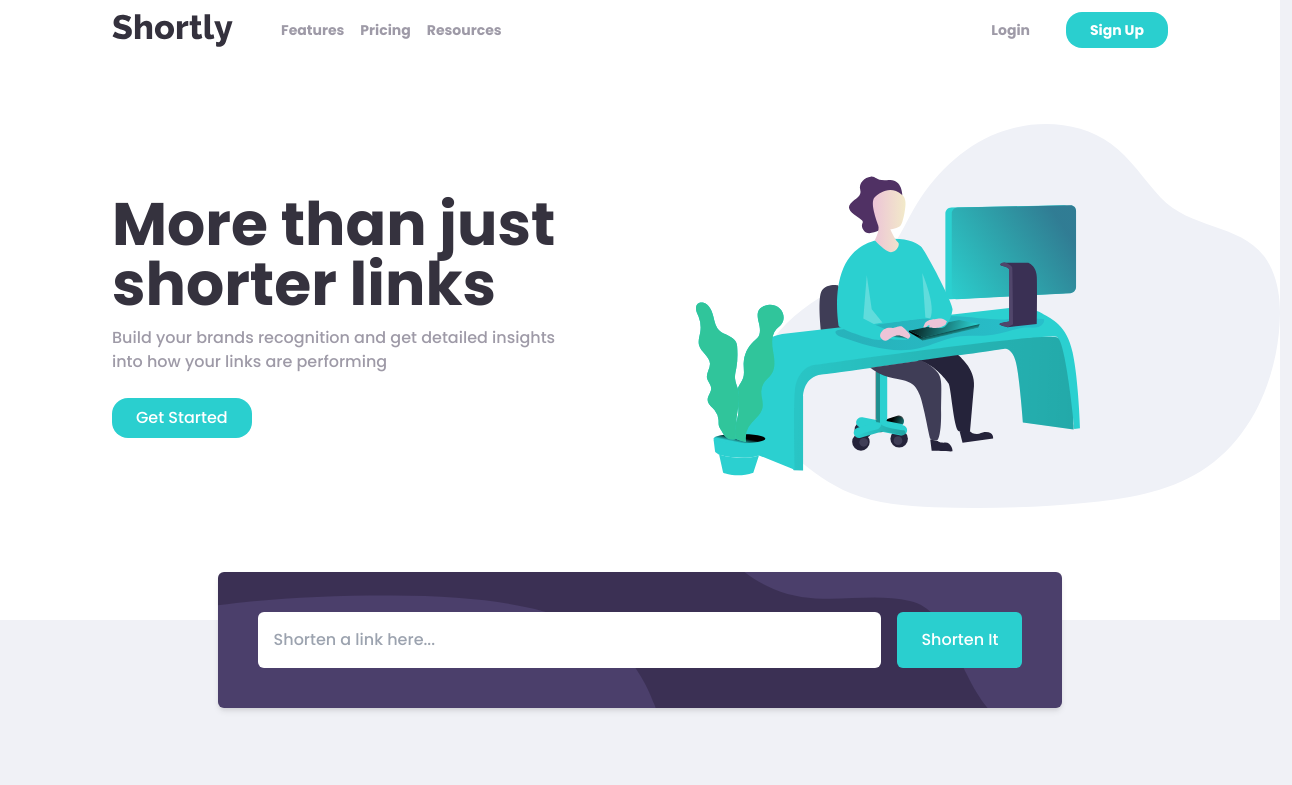
it: Action › Prevent user from submitting invalid url
Step 1. Type "hello" into the field with placeholder "Shorten a link here..." → [570, 640], box left=258, top=612, right=882, bottom=668
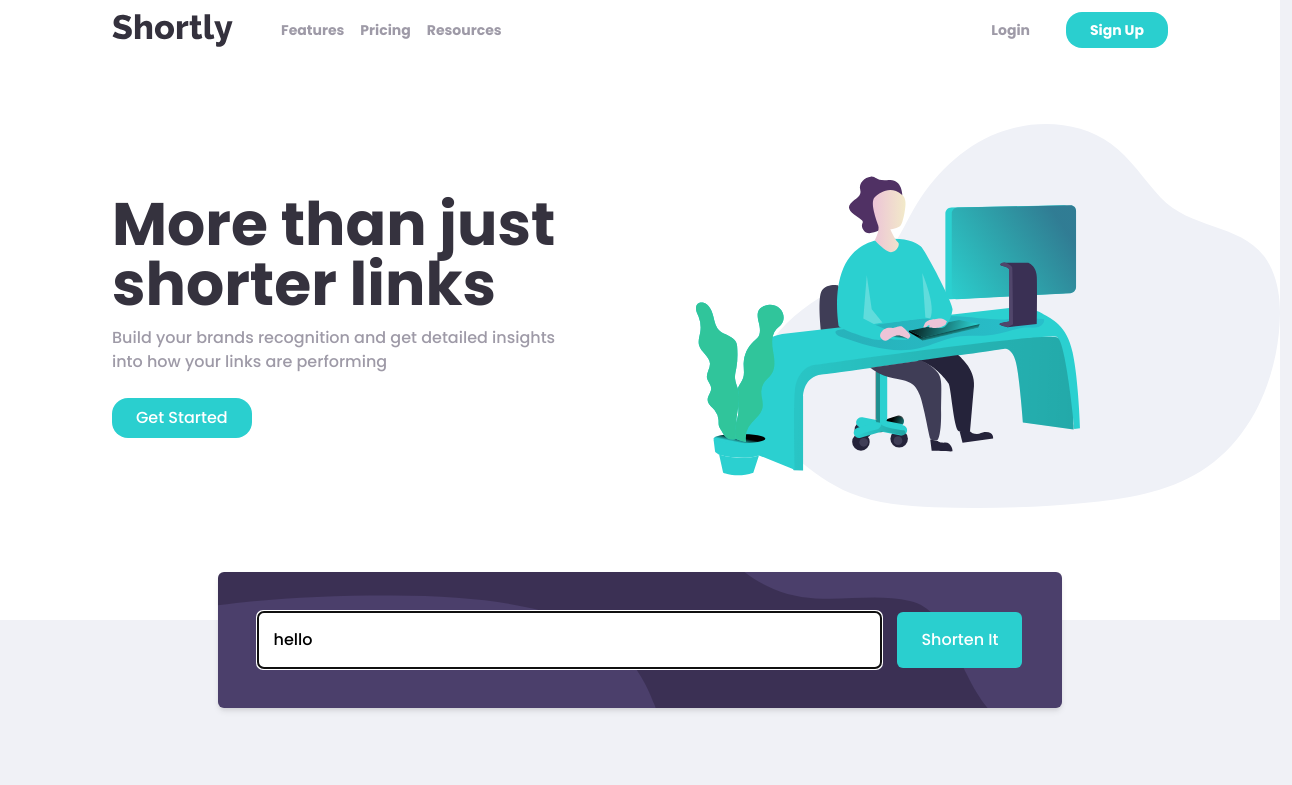
Step 2. Click the button with id "inputButton" → [960, 640], box left=897, top=612, right=1022, bottom=668
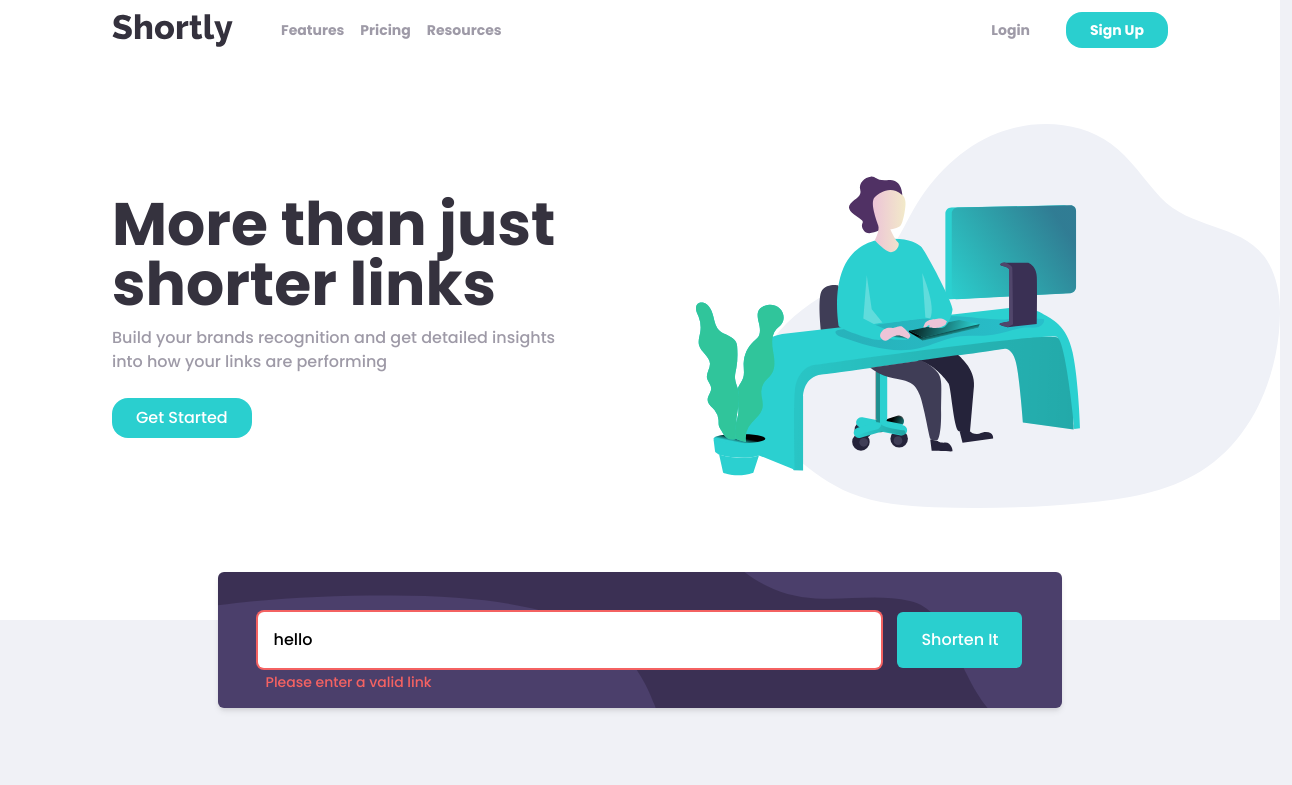
Now the text with id "inputErrorMessage" reads "Please enter a valid link", box left=266, top=672, right=432, bottom=692
